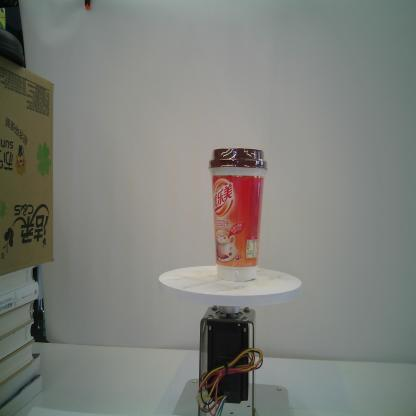Instant Drink: (208, 146, 268, 282)
